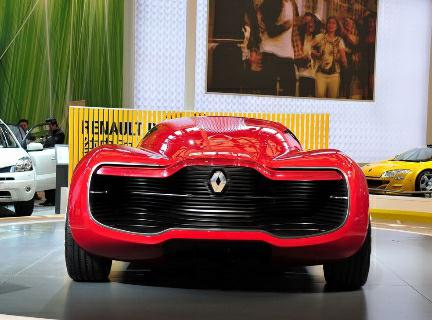雷诺-DeZir: (54, 113, 380, 297)
